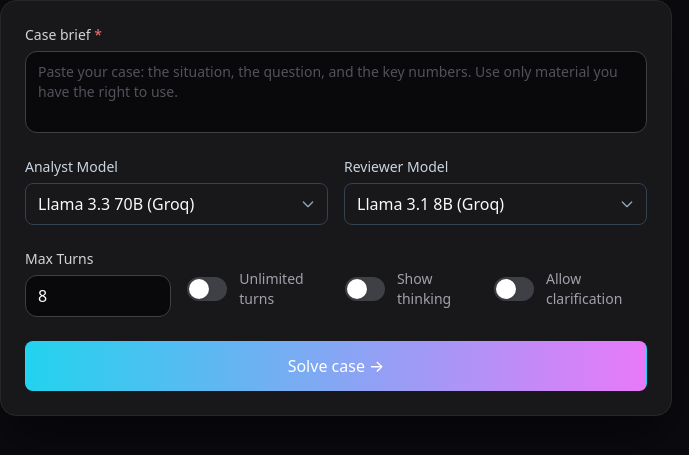
TopicForm › shows validation error when topic is too short
The image size is (689, 455).
Type "Too short" into the text box with placeholder "Paste your case" at {"x": 336, "y": 92}, box [25,51,647,133]
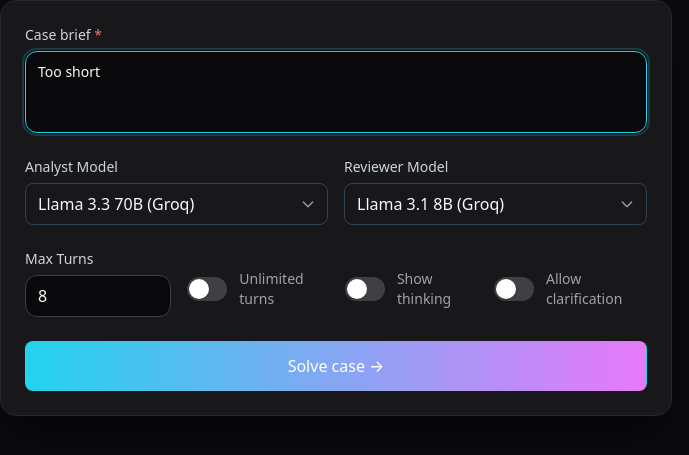
Click the button "Solve case →" at {"x": 336, "y": 366}, box [25,341,647,391]
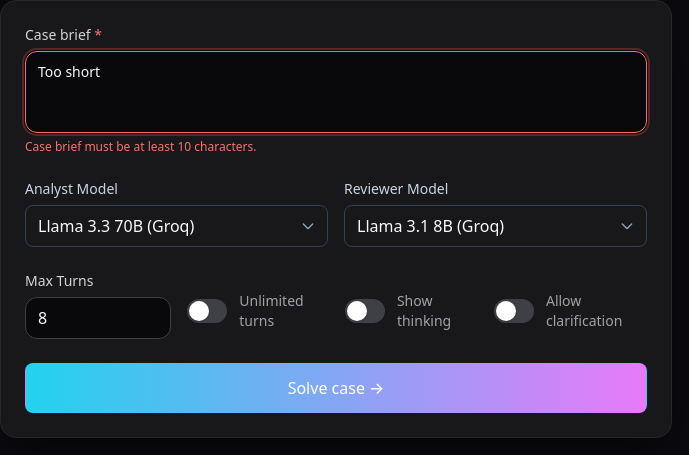
Check: the text "Case brief must be at least 10 characters." is shown, box [25,138,256,155]
